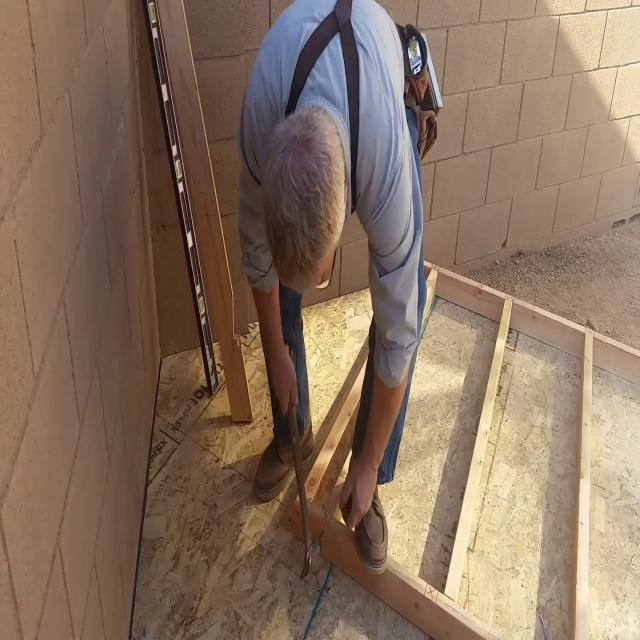hammer: (289, 404, 321, 574)
